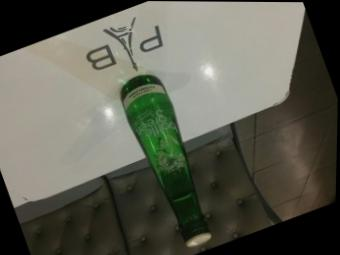glass: (121, 74, 211, 247)
